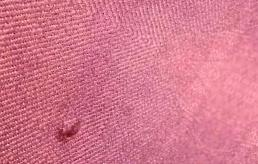knot: (53, 115, 82, 144)
